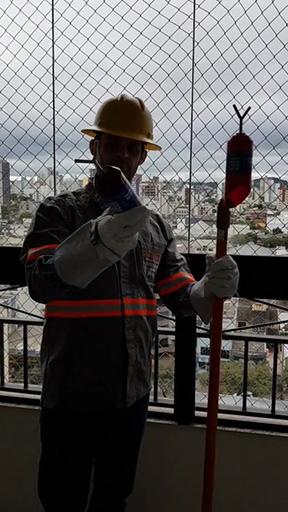Detector_Tensao_Contato: (74, 140, 146, 225), (224, 102, 254, 208)
Vara_Manobra: (201, 205, 230, 512)
